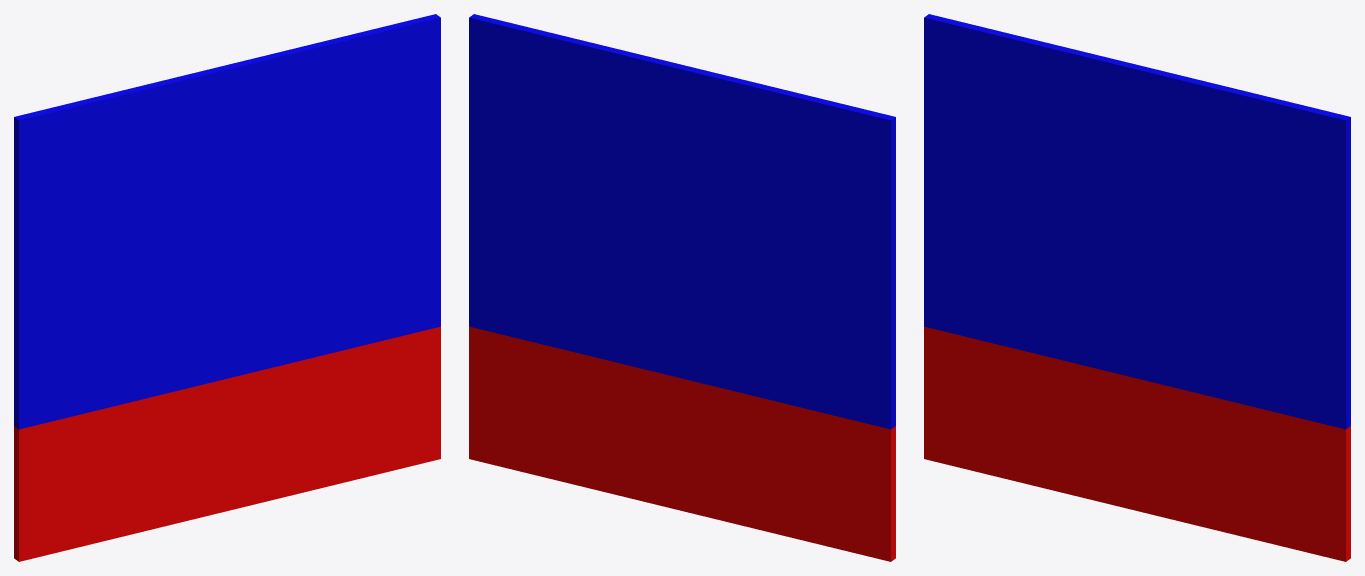
The picture shows the model from 3 angles, left to right: view 1: azimuth 30°, elevation 25°; view 2: azimuth 150°, elevation 25°; view 3: azimuth 330°, elevation 25°; orthographic projection.
Parts seen in each view (by area): view 1: SM_1000Lx20Dx1000H; view 2: SM_1000Lx20Dx1000H; view 3: SM_1000Lx20Dx1000H.
Boxes of the visible parts, x1,y1,x2,y2 form: SM_1000Lx20Dx1000H: (14,14,440,561); SM_1000Lx20Dx1000H: (469,14,895,561); SM_1000Lx20Dx1000H: (924,14,1350,561).
Bounding box in the file's own units: 1000 × 1000 × 20.
